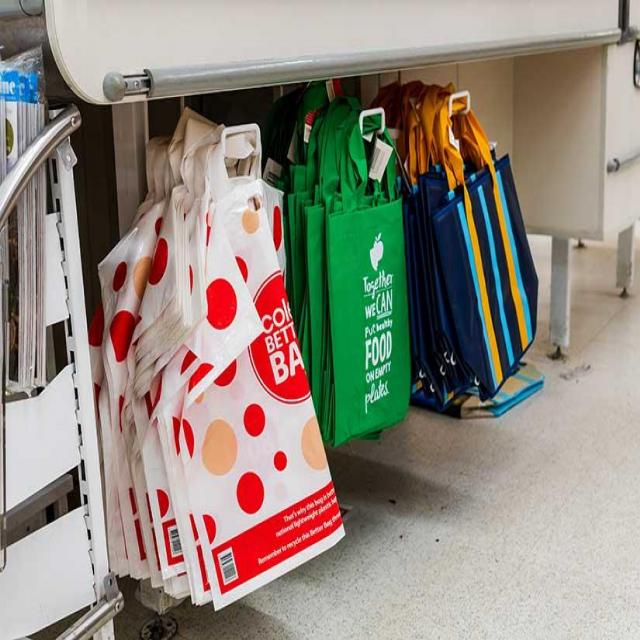others: (287, 93, 423, 453)
plastic_bag: (98, 105, 353, 613)
